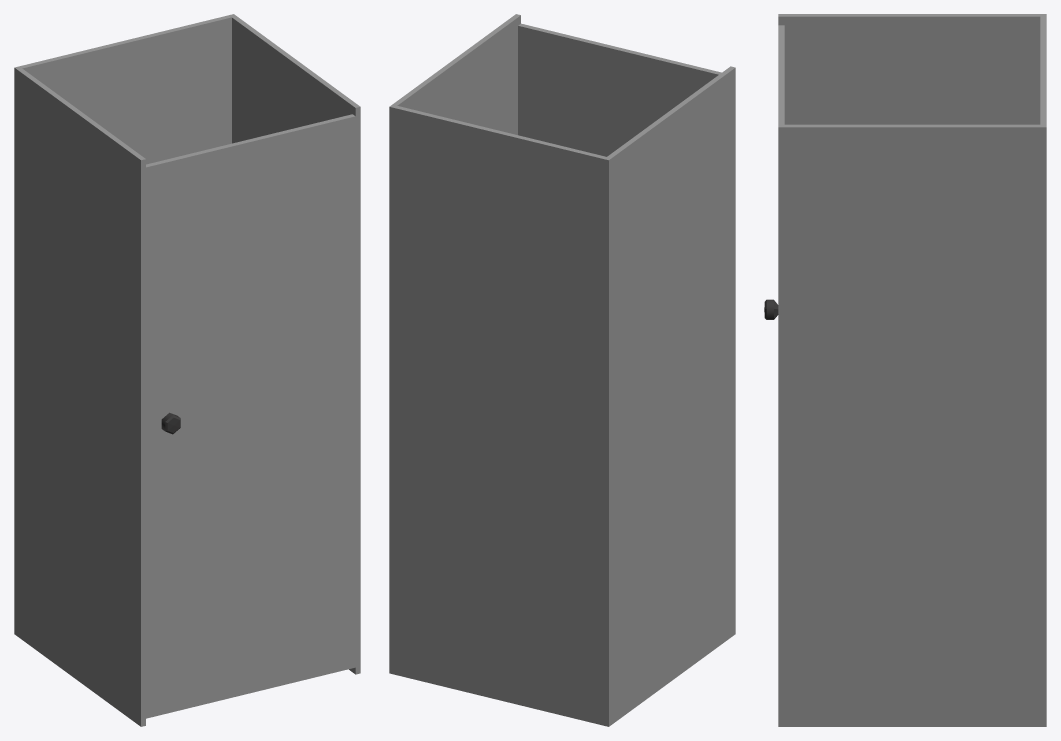
File: toilet1.FBX
The picture shows the model from 3 angles, left to right: view 1: azimuth 30°, elevation 25°; view 2: azimuth 150°, elevation 25°; view 3: azimuth 270°, elevation 25°; orthographic projection. The views are drawn at different scales.
Parts seen in each view (by area): view 1: toilet_door, toilet; view 2: toilet, toilet_door; view 3: toilet, toilet_door.
Part boxes in pixels (x1,y1,x2,y2): toilet_door: [146, 114, 355, 718]; toilet: [14, 14, 360, 726]; toilet: [389, 14, 735, 726]; toilet_door: [518, 23, 721, 156]; toilet: [778, 14, 1046, 726]; toilet_door: [764, 25, 784, 319].
Size of the model in its own units: 128 by 316 by 135.
1 material, 1 textured.
